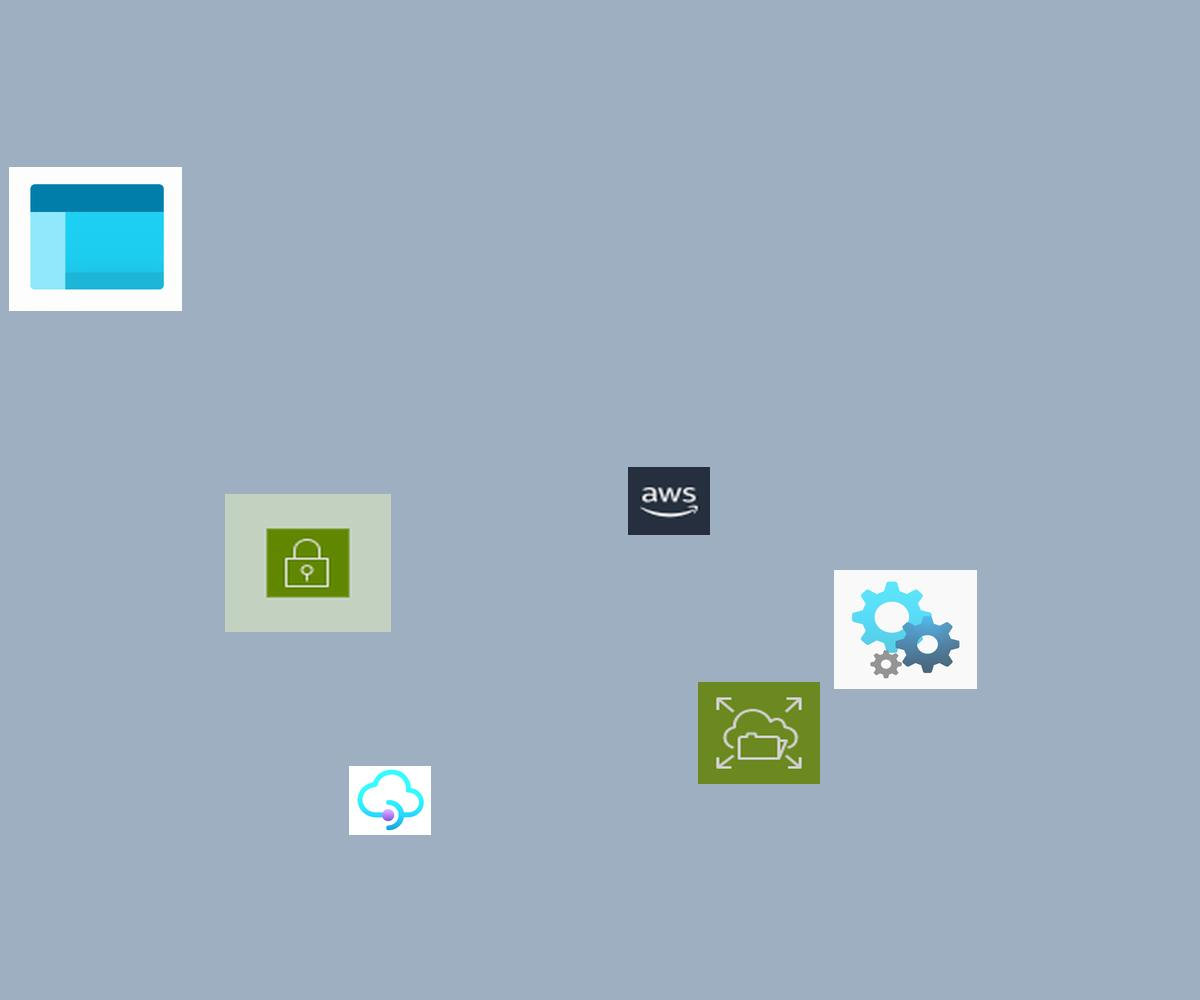AWS-Cloud-logo: (628, 467, 710, 535)
AWS-EFS: (698, 682, 820, 784)
AWS-Public-subnet: (225, 494, 391, 632)
Azure_api: (834, 570, 977, 689)
Azure_api_gateway: (349, 766, 431, 835)
Azure_management-portal: (9, 167, 182, 311)
